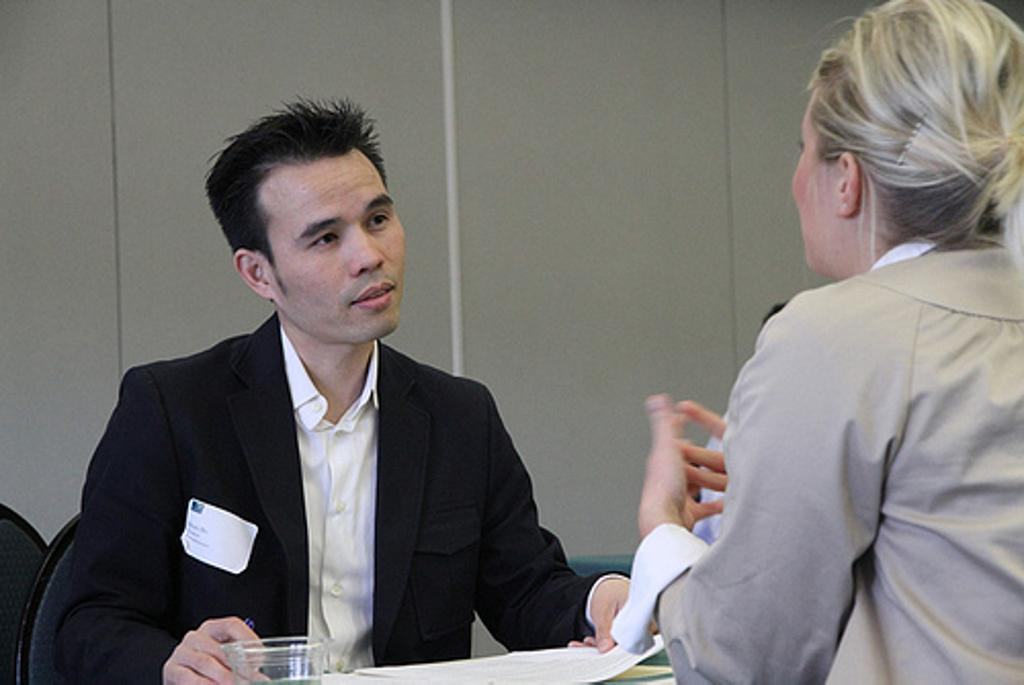face: (260, 152, 404, 340), (782, 82, 876, 278)
